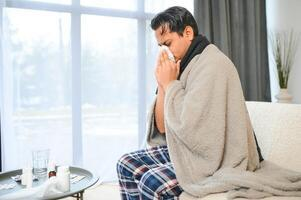blanket: (143, 43, 301, 200)
trousers: (115, 145, 183, 200)
